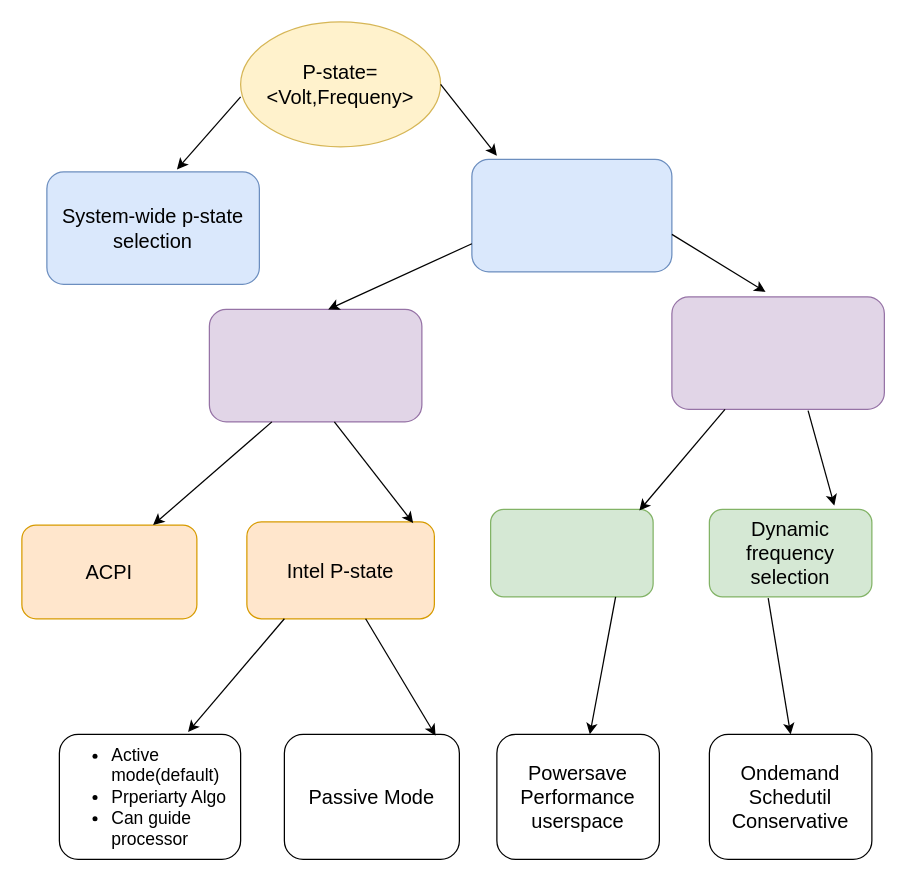
Some shapes in this 906 by 889 pixel diagram are drawn without their labels. Here are the shapes that lost their labels. From the top down, the centre of each, then its label:
At (571,215): "Component -wise p-state selection".
At (315,365): "Cpu-frequency scaling drivers".
At (777,352): "Cpu-frequency scaling governors".
At (571,552): "Static/fix frequency selection".
